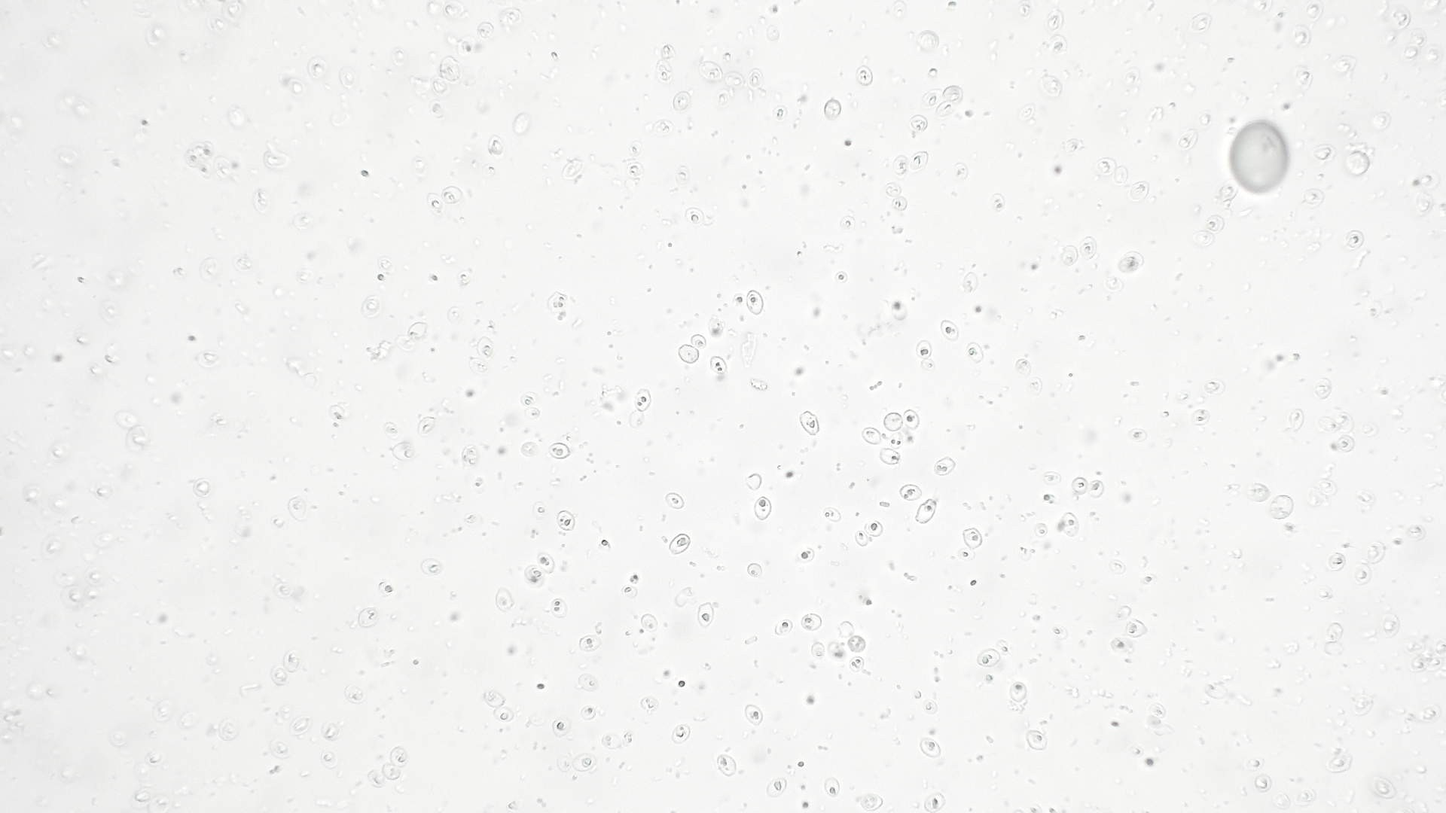yeast: (912, 497, 941, 527), (712, 749, 737, 780), (355, 606, 384, 632), (492, 585, 514, 617), (575, 670, 602, 696), (666, 531, 691, 559), (893, 483, 926, 504), (920, 788, 947, 813), (306, 56, 330, 84), (749, 493, 772, 522), (1342, 227, 1366, 254), (670, 90, 697, 114), (486, 132, 508, 161), (743, 699, 764, 729), (746, 288, 767, 318), (1023, 727, 1047, 753), (762, 775, 786, 801), (676, 343, 700, 369), (1186, 12, 1213, 35), (1290, 23, 1313, 50), (554, 508, 577, 535), (694, 603, 719, 627), (633, 386, 653, 416), (343, 682, 368, 706), (857, 425, 883, 448), (900, 406, 923, 432), (975, 647, 1001, 670), (1371, 108, 1393, 135), (797, 410, 818, 438), (960, 525, 984, 549), (288, 714, 312, 738), (820, 500, 841, 527), (938, 316, 959, 343), (474, 335, 495, 362), (654, 59, 674, 87), (548, 440, 572, 463), (931, 455, 956, 477), (535, 551, 557, 576), (920, 735, 941, 761), (799, 612, 825, 633), (1006, 681, 1027, 707), (577, 634, 603, 655), (288, 494, 306, 524), (1078, 234, 1097, 262), (1092, 155, 1115, 178), (669, 720, 691, 744), (963, 341, 984, 366), (952, 547, 978, 567), (859, 518, 886, 537), (877, 446, 904, 465), (684, 206, 708, 227), (440, 184, 464, 205), (416, 413, 437, 437), (377, 254, 398, 278), (285, 77, 306, 101), (1123, 620, 1149, 639), (465, 357, 491, 376), (663, 489, 686, 510), (987, 191, 1008, 214), (1325, 550, 1346, 573), (419, 558, 447, 575), (492, 707, 517, 726), (1108, 637, 1137, 653), (707, 355, 728, 377), (908, 112, 929, 134), (855, 63, 874, 87), (389, 743, 408, 767), (914, 336, 932, 361), (1350, 564, 1371, 585), (320, 748, 342, 768), (428, 99, 448, 121), (822, 775, 840, 799), (551, 597, 569, 621), (390, 46, 408, 70), (181, 148, 201, 169), (476, 21, 496, 42), (1203, 215, 1225, 234), (639, 613, 658, 635), (741, 562, 764, 580), (1071, 475, 1089, 498), (1191, 408, 1215, 425), (639, 695, 660, 714), (773, 620, 795, 638), (1041, 468, 1063, 486), (883, 181, 905, 199), (1253, 774, 1271, 796), (426, 193, 444, 215), (270, 665, 288, 687), (851, 527, 868, 550), (1125, 426, 1148, 443), (1106, 558, 1127, 576), (921, 696, 939, 716), (1048, 623, 1068, 641), (1033, 519, 1050, 540), (795, 546, 814, 564), (624, 163, 646, 178), (847, 656, 865, 674), (1337, 434, 1355, 452), (531, 501, 548, 520), (810, 641, 825, 662), (770, 105, 787, 123), (519, 392, 538, 408), (621, 585, 639, 601), (891, 196, 910, 211), (578, 705, 596, 720)
